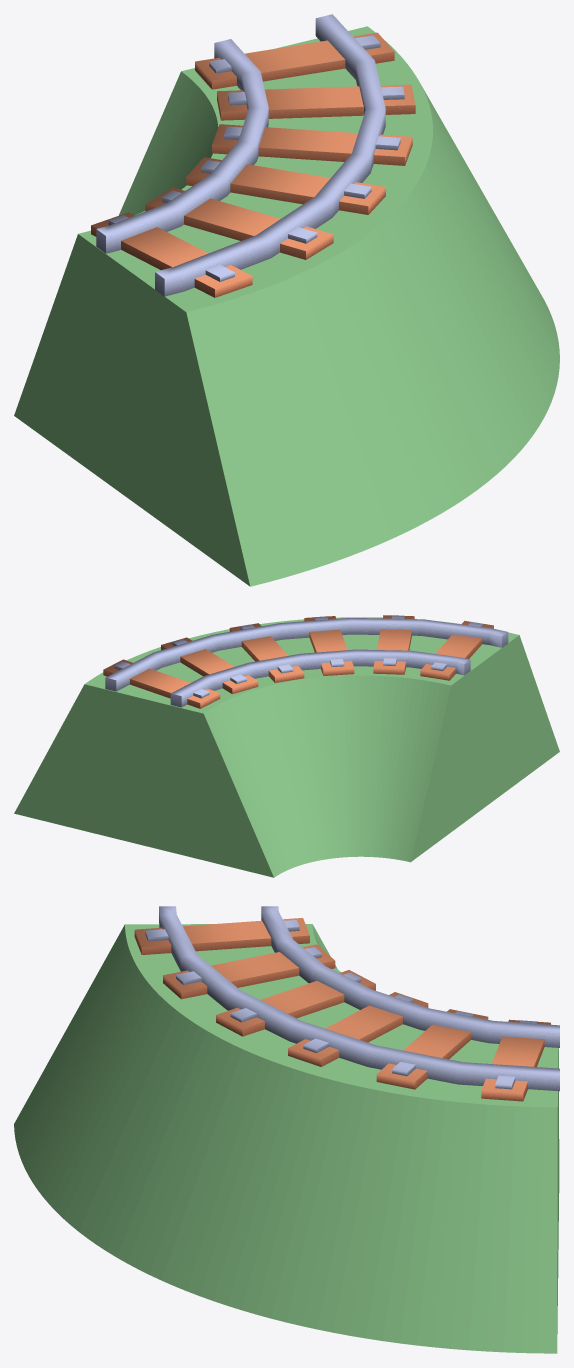
Rendered from hill-hill-corner.glb.
3 views of the same model, one above another, from view 1: azimuth 30°, elevation 25°; view 2: azimuth 150°, elevation 25°; view 3: azimuth 270°, elevation 25° (orthographic). The views are drawn at different scales.
Parts seen in each view (by area): view 1: corner_bank_mound, corner_bank_rails; view 2: corner_bank_mound, corner_bank_rails; view 3: corner_bank_mound, corner_bank_rails.
Boxes of the visible parts, box(x1,y1,x2,y2) form: corner_bank_mound: box(14, 26, 559, 586); corner_bank_rails: box(91, 14, 415, 297); corner_bank_mound: box(14, 617, 559, 877); corner_bank_rails: box(103, 615, 508, 708); corner_bank_mound: box(14, 924, 559, 1353); corner_bank_rails: box(134, 906, 559, 1101).
Bounding box in the file's own units: 3.2 × 1.4 × 3.2.
2 materials, 1 textured.
